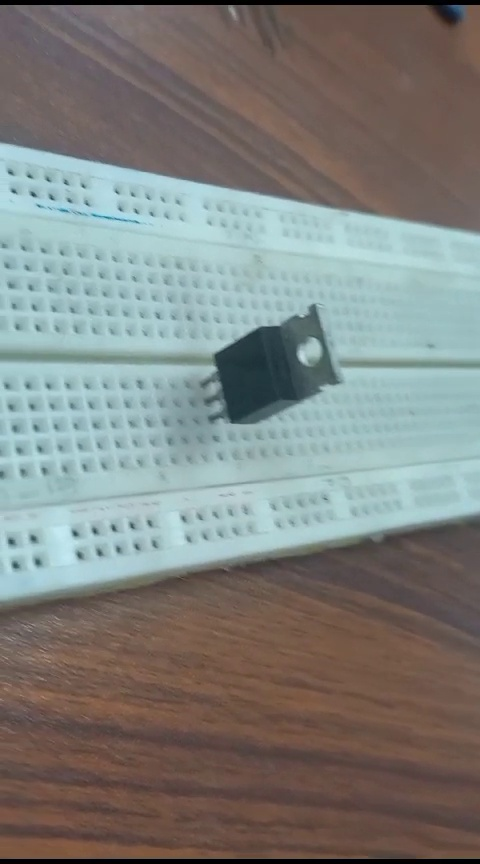voltage regulator: (173, 313, 353, 432)
